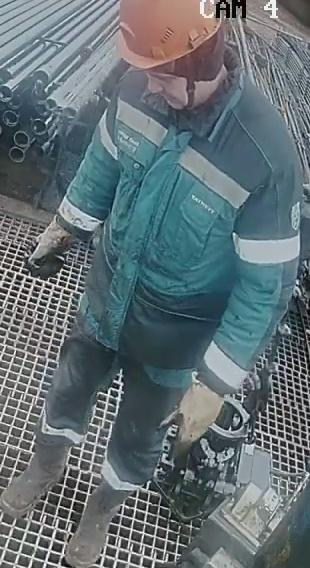gloves: (157, 365, 232, 461), (25, 214, 76, 279)
helmet: (116, 0, 226, 88)
vest: (74, 61, 302, 364)
